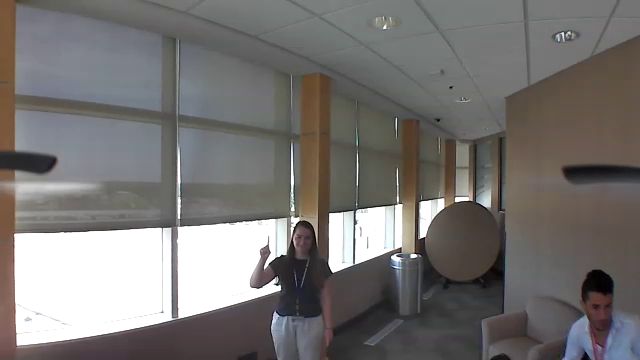up: (258, 234, 272, 260)
